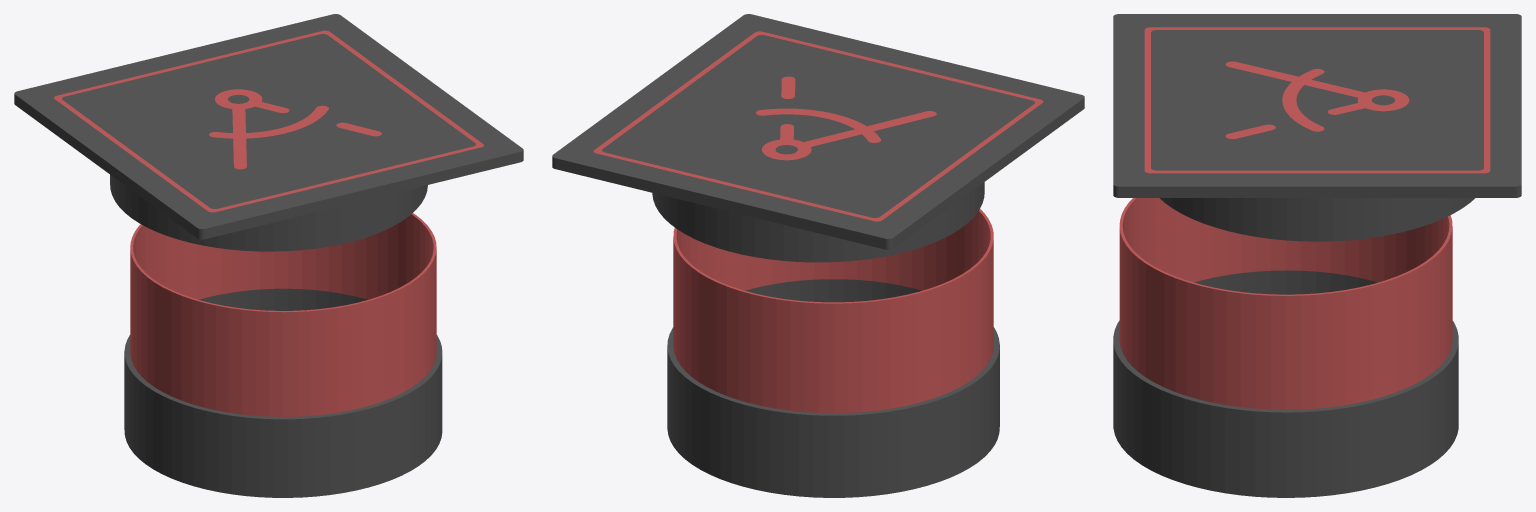
File: bomboniera-architettura-facolta-aperto.glb
The picture shows the model from 3 angles, left to right: view 1: azimuth 30°, elevation 25°; view 2: azimuth 150°, elevation 25°; view 3: azimuth 270°, elevation 25°; orthographic projection. The views are drawn at different scales.
Parts seen in each view (by area): view 1: struttura_coperchio, fascia, struttura_base, bordo, simbolo_intarsio; view 2: struttura_coperchio, fascia, struttura_base, bordo, simbolo_intarsio; view 3: struttura_coperchio, fascia, struttura_base, bordo, simbolo_intarsio.
Part boxes in pixels (bbox=[...]): struttura_coperchio: bbox=[14, 14, 523, 251]; fascia: bbox=[130, 213, 436, 416]; struttura_base: bbox=[124, 288, 442, 497]; bordo: bbox=[54, 30, 483, 212]; simbolo_intarsio: bbox=[209, 89, 381, 169]; struttura_coperchio: bbox=[552, 14, 1084, 262]; fascia: bbox=[673, 209, 993, 413]; struttura_base: bbox=[667, 279, 999, 497]; bordo: bbox=[593, 31, 1043, 221]; simbolo_intarsio: bbox=[755, 76, 936, 160]; struttura_coperchio: bbox=[1113, 14, 1521, 241]; fascia: bbox=[1119, 198, 1452, 409]; struttura_base: bbox=[1113, 270, 1458, 497]; bordo: bbox=[1144, 27, 1490, 173]; simbolo_intarsio: bbox=[1225, 61, 1409, 138].
Size of the model in its own units: 0.065 by 0.057 by 0.065.
